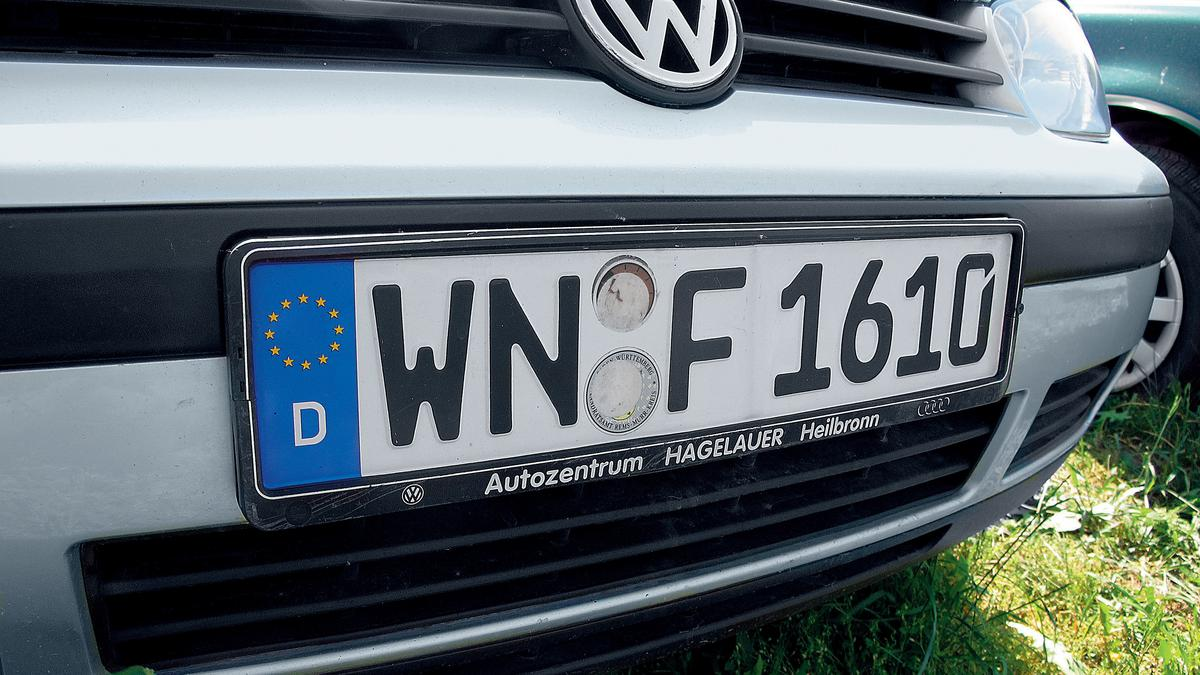number_plate: (243, 228, 1020, 500)
